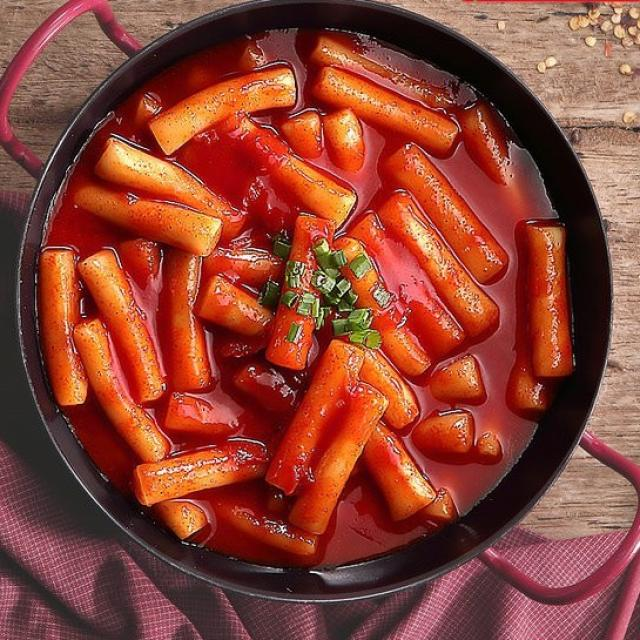carb: (40, 250, 439, 560), (150, 35, 514, 373), (75, 185, 222, 289), (96, 140, 246, 238), (267, 215, 336, 370), (514, 221, 574, 391), (196, 249, 286, 337), (412, 411, 505, 465), (506, 347, 556, 420), (430, 356, 489, 407)
vegetable: (260, 236, 396, 350)
